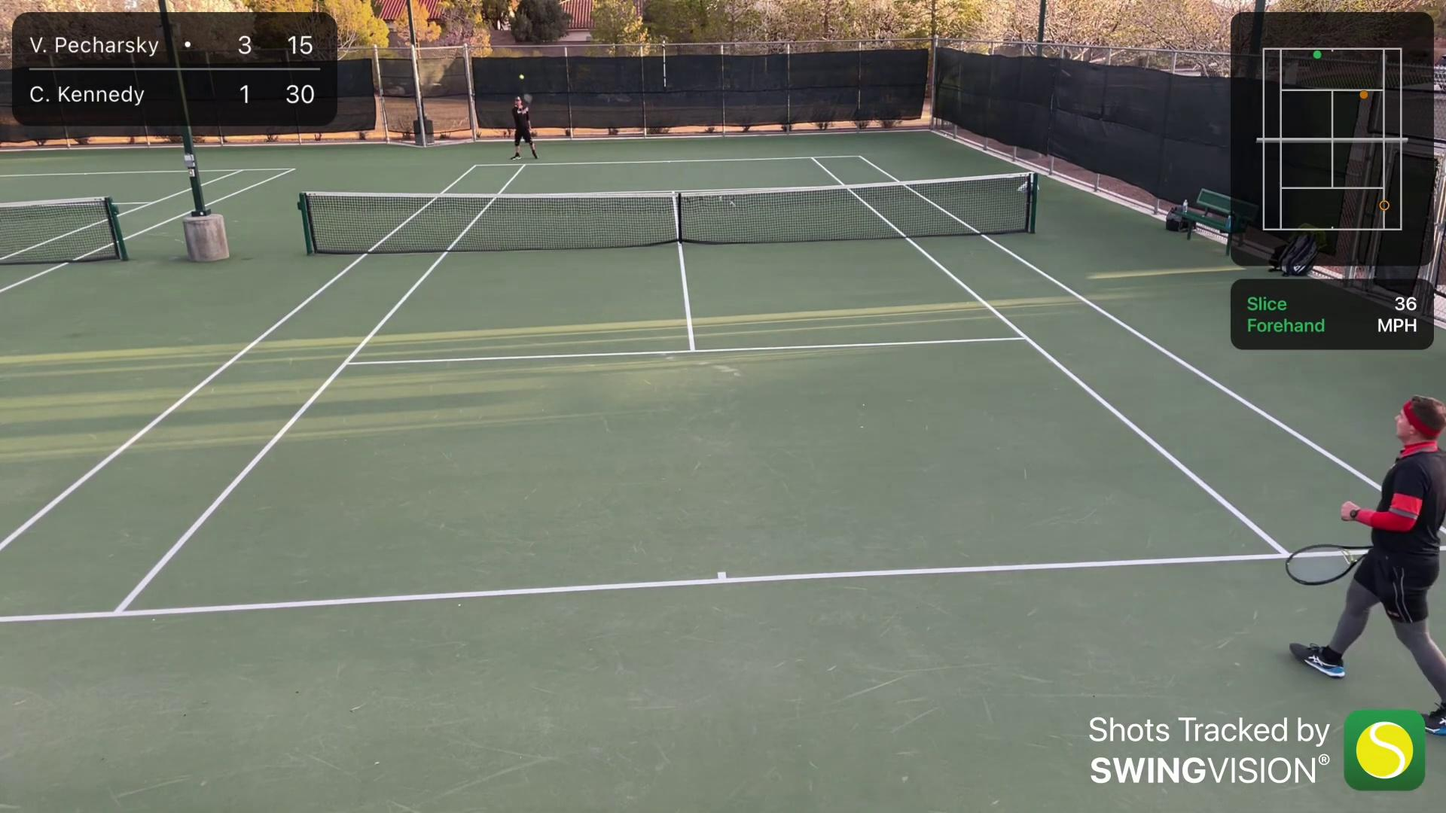ball: (520, 73, 526, 80)
